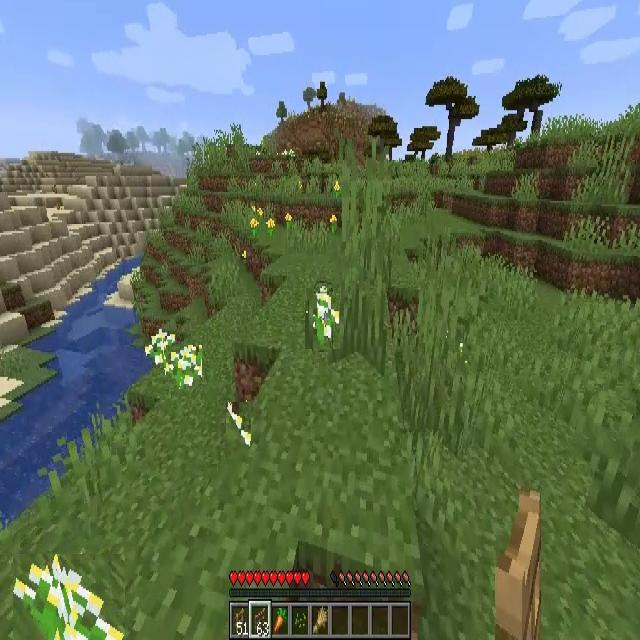flower: (13, 554, 125, 640), (305, 288, 340, 349), (166, 345, 202, 389), (145, 330, 175, 374), (226, 402, 251, 447), (266, 218, 276, 242), (284, 211, 293, 237), (249, 219, 259, 241), (329, 214, 338, 236), (334, 180, 340, 201), (242, 250, 247, 271)
